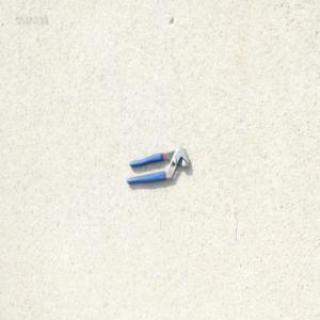Pliertrack_idkeyframe: (124, 143, 189, 184)
